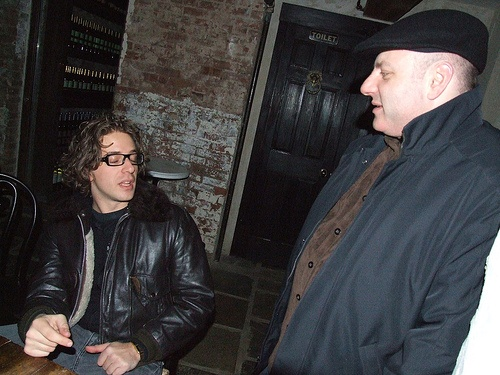head: (350, 5, 488, 135), (57, 117, 149, 203)
person: (228, 1, 487, 375), (14, 108, 213, 375)
